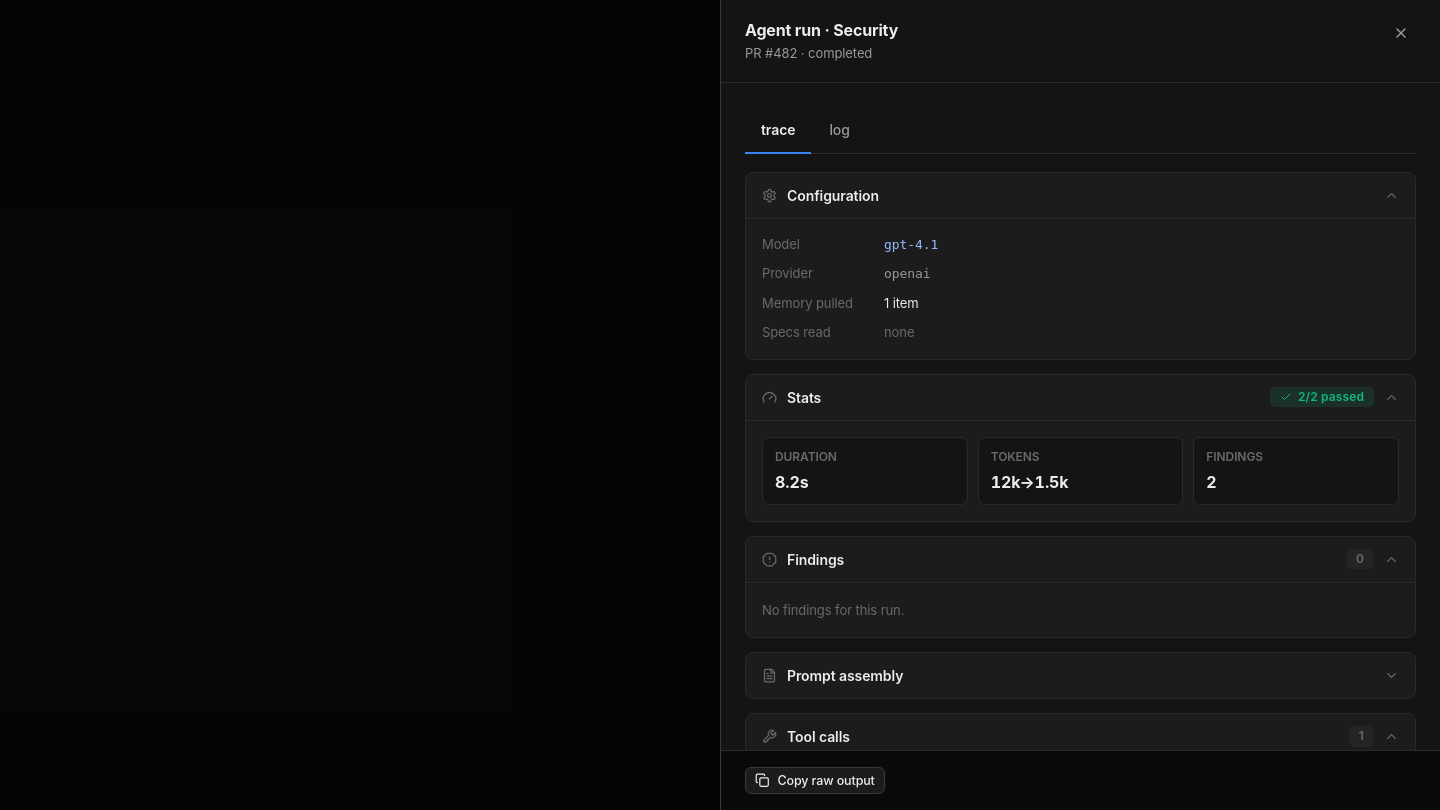
Test case: A5 Run Trace drawer (smoke) › switches to the live log tab
Click the button "log" at (840, 130), box top-left (813, 106), bottom-right (866, 154)
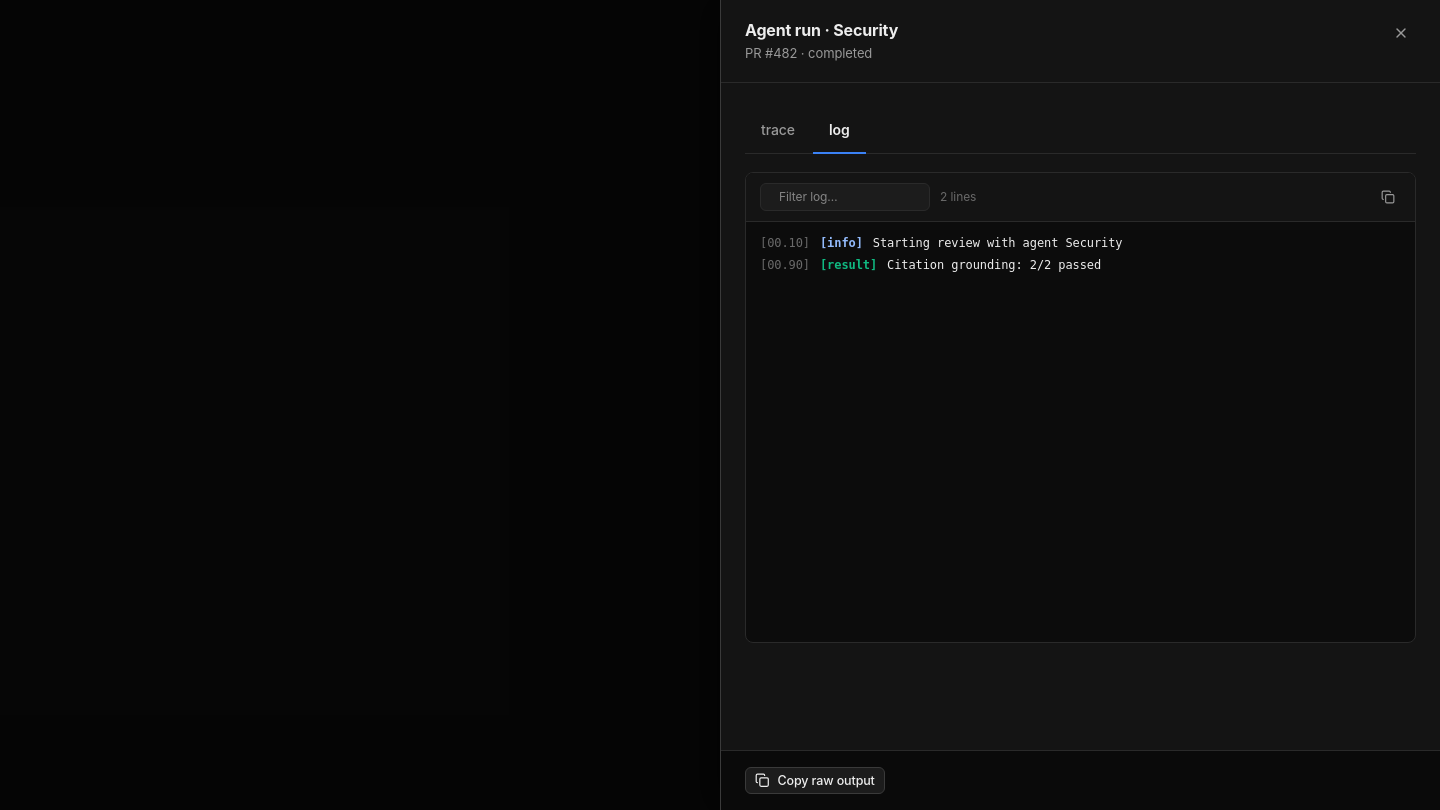
Expected: the field with placeholder "Filter log…" is shown, top-left (779, 188), bottom-right (971, 206)
